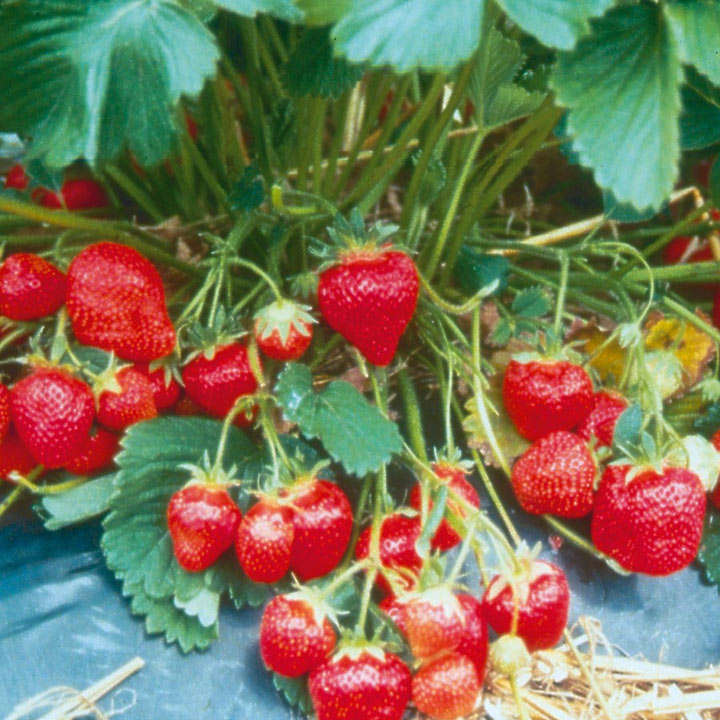ripe: (62, 227, 184, 365), (585, 456, 709, 578), (318, 241, 425, 374), (382, 584, 489, 690), (500, 348, 598, 449), (7, 367, 102, 471), (264, 474, 355, 581), (484, 553, 572, 658), (303, 645, 418, 716), (180, 342, 268, 433), (164, 473, 238, 574), (507, 442, 596, 522), (358, 509, 434, 599), (260, 595, 336, 682), (407, 466, 478, 555), (233, 495, 298, 588), (63, 413, 144, 485), (2, 247, 75, 325), (248, 294, 318, 371), (413, 650, 485, 719), (582, 382, 645, 453), (0, 381, 37, 489), (102, 367, 160, 425), (41, 173, 111, 215), (131, 354, 178, 412)
